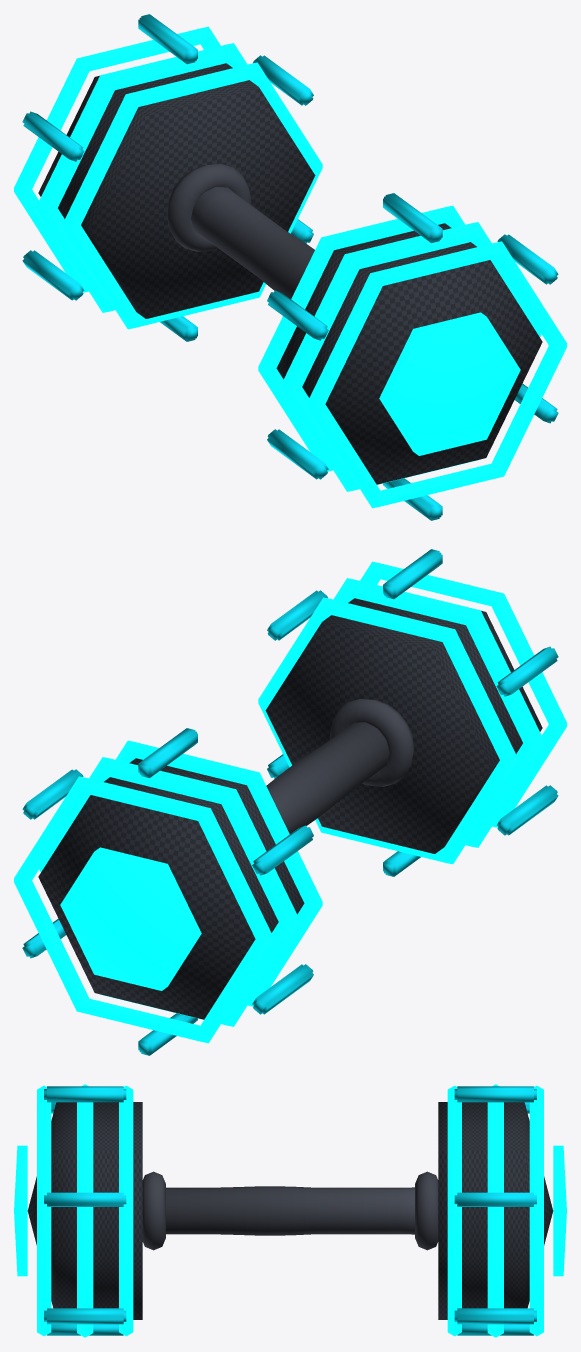
The model's file is CyberDumbbell.fbx.
The picture shows the model from 3 angles, top to bottom: view 1: azimuth 30°, elevation 25°; view 2: azimuth 150°, elevation 25°; view 3: azimuth 270°, elevation 25°; orthographic projection. The views are drawn at different scales.
Parts seen in each view (by area): view 1: CyberDumbbell, CyberDumbbell_Glow; view 2: CyberDumbbell, CyberDumbbell_Glow; view 3: CyberDumbbell, CyberDumbbell_Glow.
Part boxes in pixels (x1,y1,x2,y2): CyberDumbbell: (22, 14, 558, 520); CyberDumbbell_Glow: (14, 26, 566, 508); CyberDumbbell: (22, 549, 558, 1055); CyberDumbbell_Glow: (14, 561, 566, 1043); CyberDumbbell: (27, 1086, 553, 1335); CyberDumbbell_Glow: (14, 1084, 566, 1337).
Bounding box in the file's own units: 93 × 99 × 202.
Materials: 2 (1 with a texture image).
